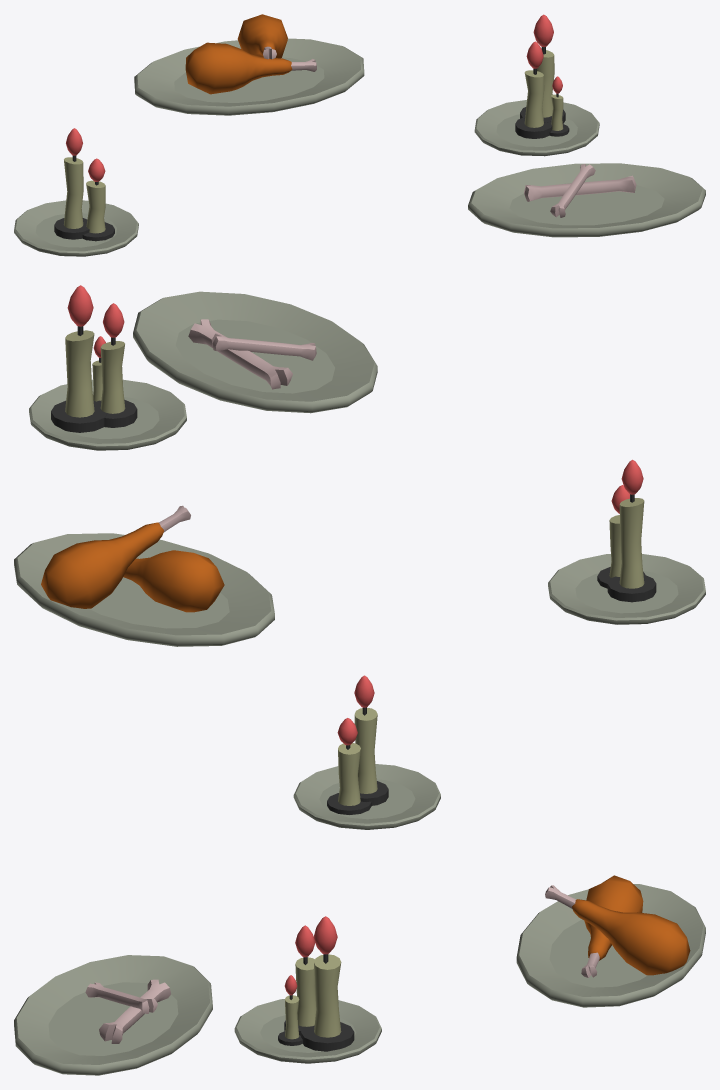
File: Plattery_2.fbx
3 views of the same model, one above another, from view 1: azimuth 30°, elevation 25°; view 2: azimuth 150°, elevation 25°; view 3: azimuth 270°, elevation 25° (orthographic). The views are drawn at different scales.
Parts seen in each view (by area): view 1: 1_Plattery_1; view 2: 1_Plattery_1; view 3: 1_Plattery_1.
Part boxes in pixels (box(x1,y1,x2,y2)): 1_Plattery_1: box(14, 14, 705, 256); 1_Plattery_1: box(14, 285, 705, 646); 1_Plattery_1: box(14, 675, 705, 1075).
Size of the model in its own units: 114 by 24.65 by 105.
